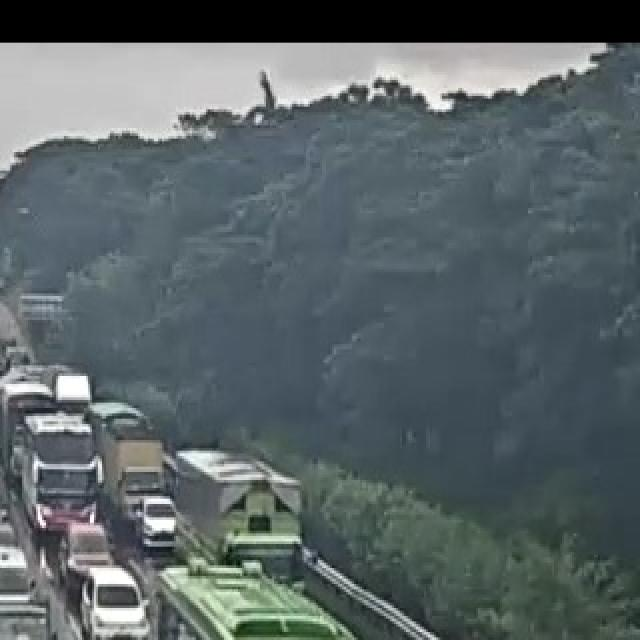bus: (148, 557, 436, 640), (18, 411, 100, 546)
car: (80, 565, 148, 640), (56, 520, 116, 589), (0, 544, 36, 635), (0, 597, 58, 640), (134, 491, 176, 546)
van: (182, 452, 304, 596), (96, 411, 168, 528), (0, 373, 60, 475)
